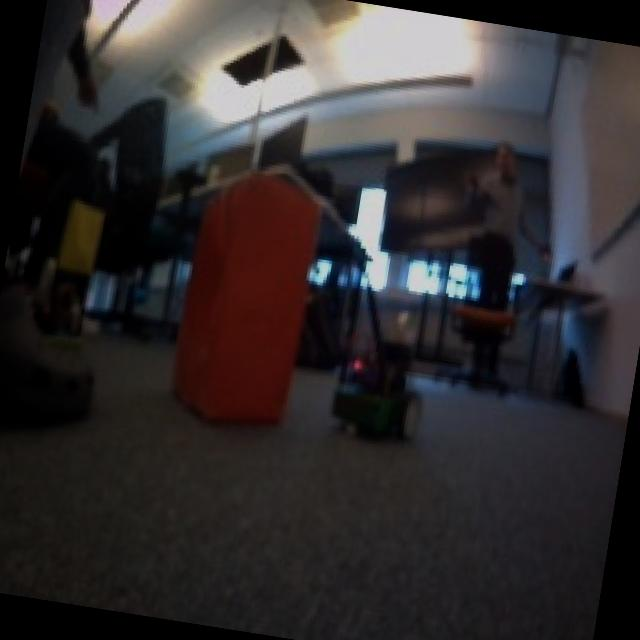robot: (322, 349, 428, 445), (40, 318, 91, 361)
target: (160, 154, 332, 434)
